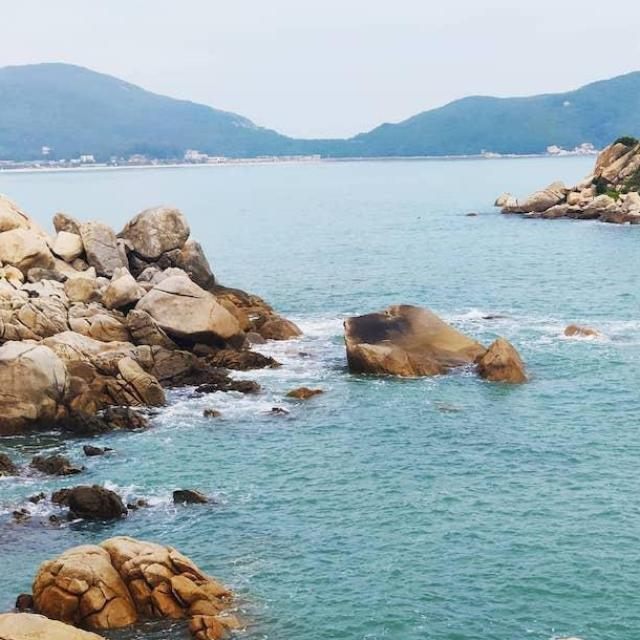reef: (8, 190, 337, 399), (29, 512, 288, 640), (453, 129, 640, 230)
